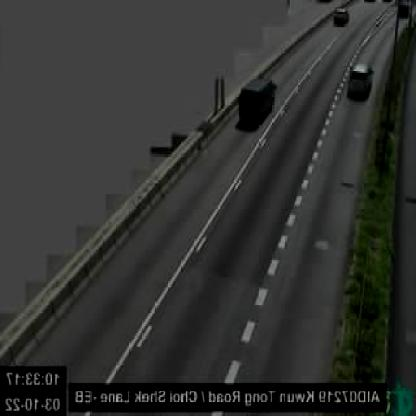Car: (238, 74, 277, 122), (347, 62, 376, 96), (332, 5, 350, 24)
